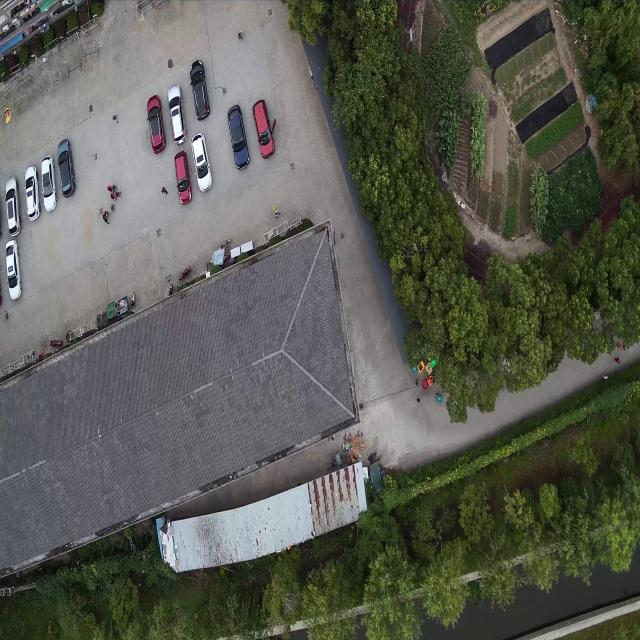UAV: (404, 25, 419, 46)
